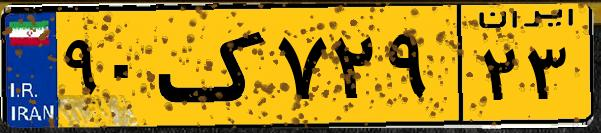0: (110, 28, 158, 98)
2: (330, 28, 385, 110), (475, 38, 525, 113)
3: (525, 38, 570, 115)
7: (270, 28, 330, 110)
9: (385, 28, 445, 110), (57, 26, 110, 100)
ک: (158, 12, 270, 120)
